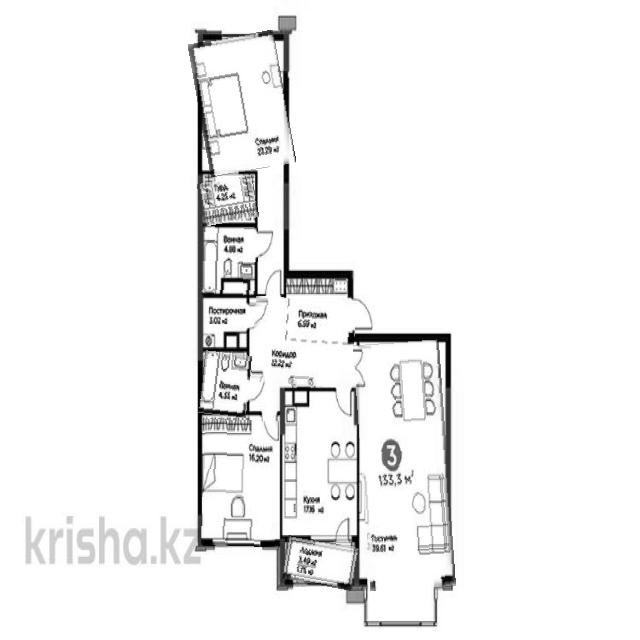balcony: (282, 538, 357, 588)
bathroom: (199, 227, 258, 296), (200, 352, 252, 417)
hallway: (252, 298, 355, 387)
kitchen: (284, 390, 356, 539)
living_room: (358, 341, 452, 590), (193, 33, 290, 174), (202, 419, 278, 547)
other: (199, 177, 257, 224), (201, 299, 249, 347)
